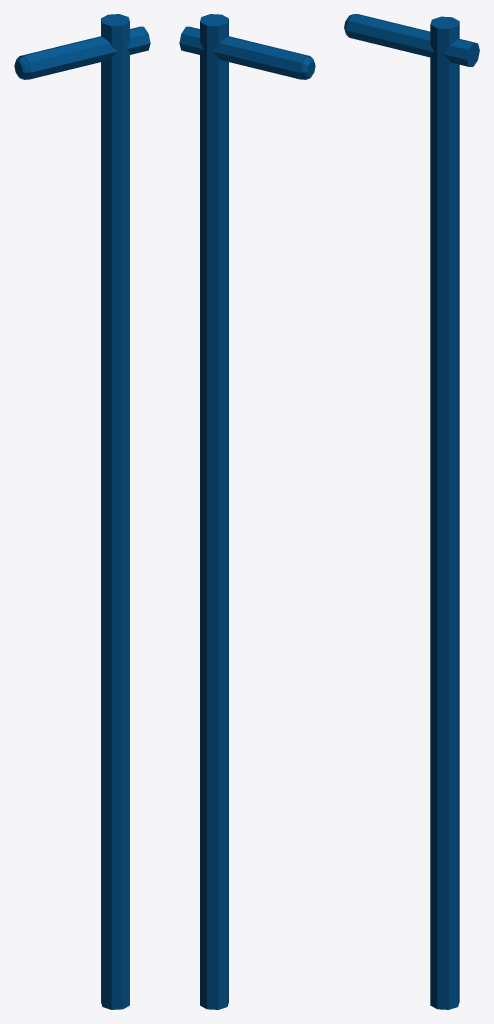
Rendered from Wind_Turbine.fbx.
The picture shows the model from 3 angles, left to right: view 1: azimuth 30°, elevation 25°; view 2: azimuth 150°, elevation 25°; view 3: azimuth 330°, elevation 25°; orthographic projection.
Parts seen in each view (by area): view 1: Wind_Turbine; view 2: Wind_Turbine; view 3: Wind_Turbine.
Boxes of the visible parts, left/top/right/bottom form: Wind_Turbine: left=14, top=14, right=150, bottom=1009; Wind_Turbine: left=179, top=14, right=315, bottom=1009; Wind_Turbine: left=344, top=14, right=479, bottom=1009.
Size of the model in its own units: 34.99 by 262 by 7.31.
